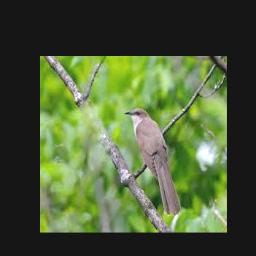Cuckoo: (125, 108, 181, 215)
